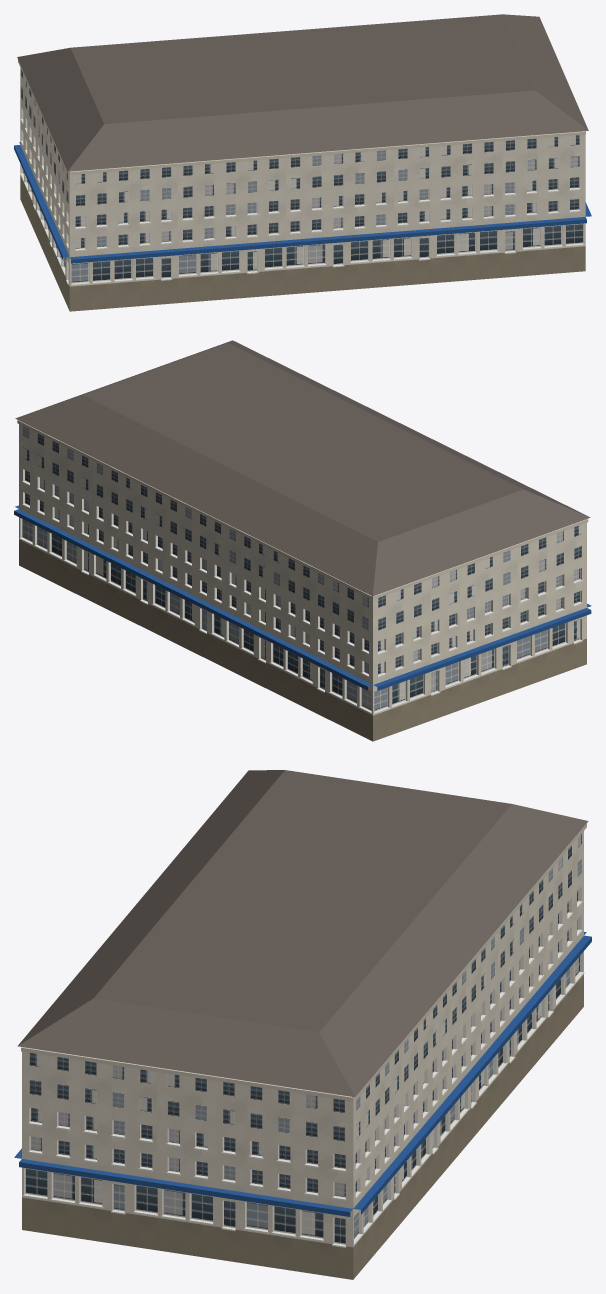
File: z2a_ewp_nw_row.glb
3 views of the same model, one above another, from view 1: azimuth 30°, elevation 25°; view 2: azimuth 150°, elevation 25°; view 3: azimuth 270°, elevation 25° (orthographic). The views are drawn at different scales.
Parts seen in each view (by area): view 1: z2a_ewp_nw_row; view 2: z2a_ewp_nw_row; view 3: z2a_ewp_nw_row.
Part boxes in pixels (x1,y1,x2,y2): z2a_ewp_nw_row: (14, 14, 591, 311); z2a_ewp_nw_row: (14, 340, 591, 741); z2a_ewp_nw_row: (14, 770, 591, 1279).
Size of the model in its own units: 65.15 by 20.01 by 48.25.
3 materials, 3 textured.
